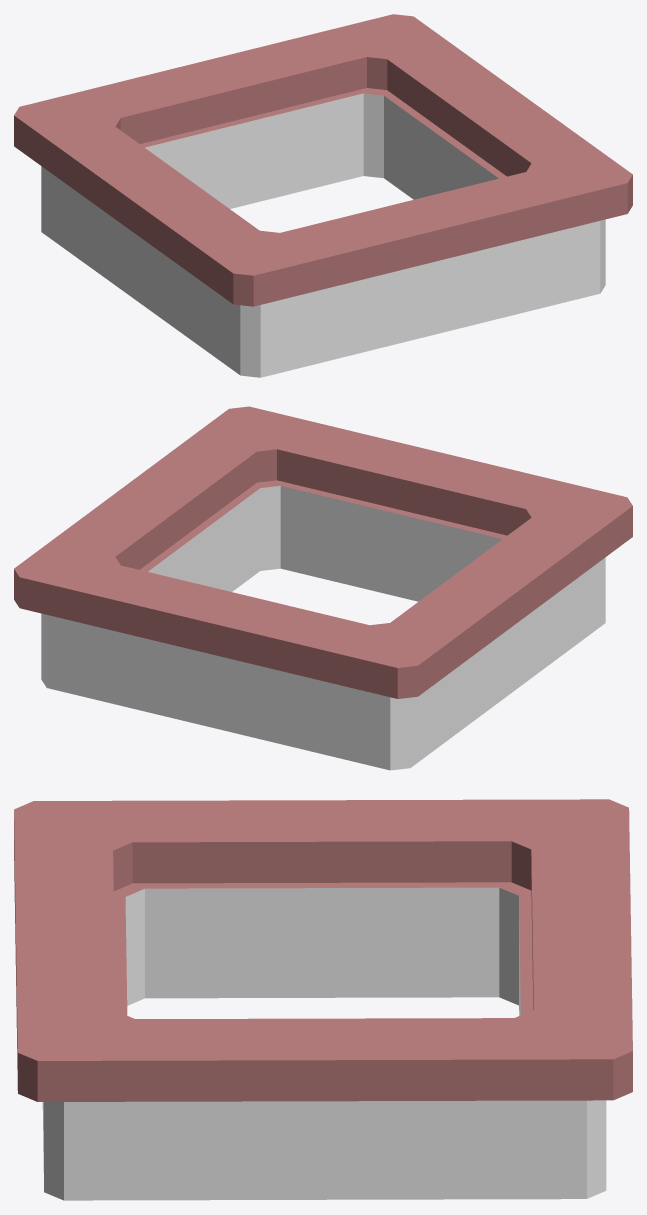
File: RBin3.fbx
The picture shows the model from 3 angles, top to bottom: view 1: azimuth 30°, elevation 25°; view 2: azimuth 150°, elevation 25°; view 3: azimuth 270°, elevation 25°; orthographic projection. The views are drawn at different scales.
Visible parts, largest first — view 1: pPipe3; view 2: pPipe3; view 3: pPipe3.
Boxes of the visible parts, x1,y1,x2,y2 form: pPipe3: (14, 14, 632, 377); pPipe3: (14, 406, 632, 770); pPipe3: (14, 799, 632, 1200).
Size of the model in its own units: 49.2 by 13.23 by 49.2.
